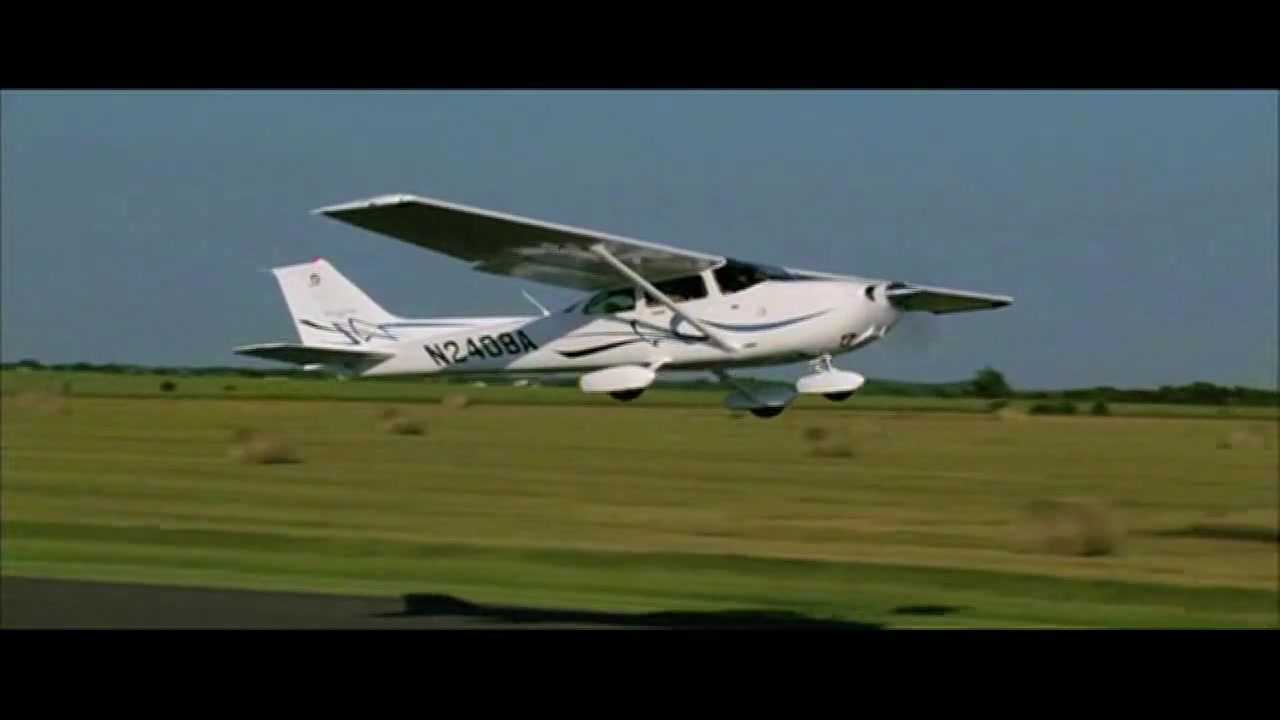aeroplane: (234, 193, 1014, 418)
